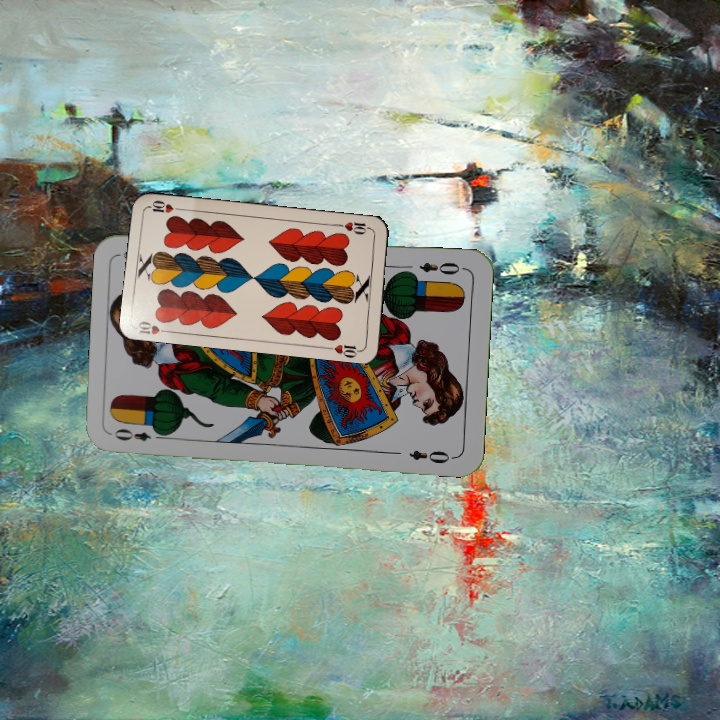EO: (110, 425, 168, 444), (415, 258, 467, 277)
H10: (134, 317, 174, 337), (334, 218, 374, 237)
